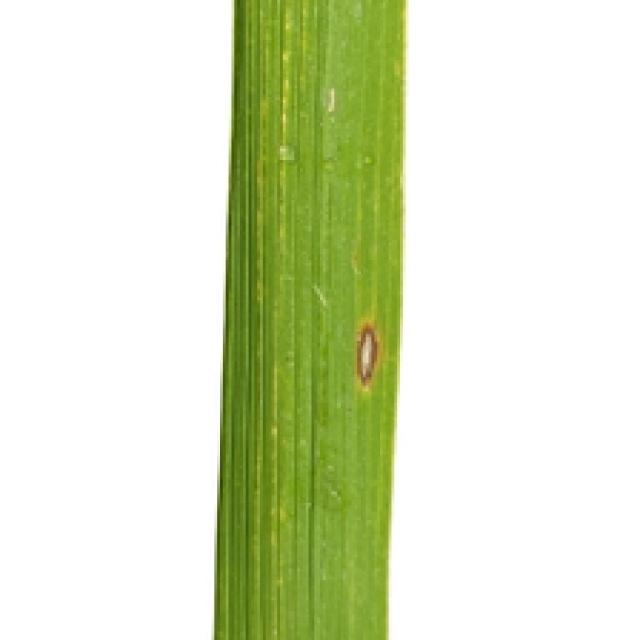Rice___Rice_Blast: (212, 0, 408, 637)
